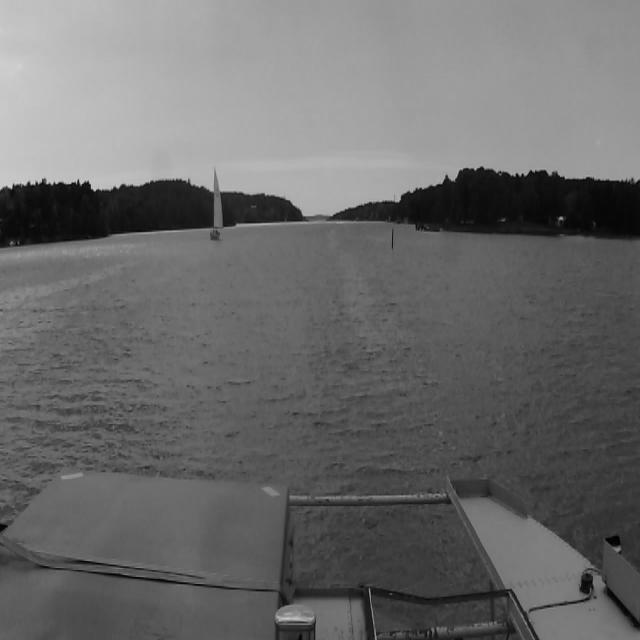buoy: (389, 224, 397, 250)
ship: (208, 166, 224, 238)
